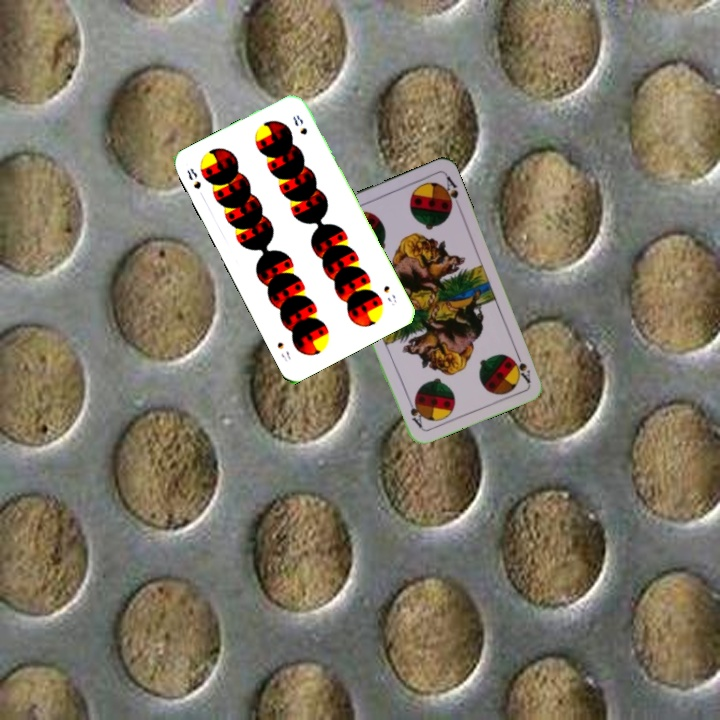S8: (183, 164, 204, 192), (379, 281, 399, 308)
SA: (509, 346, 533, 386)
